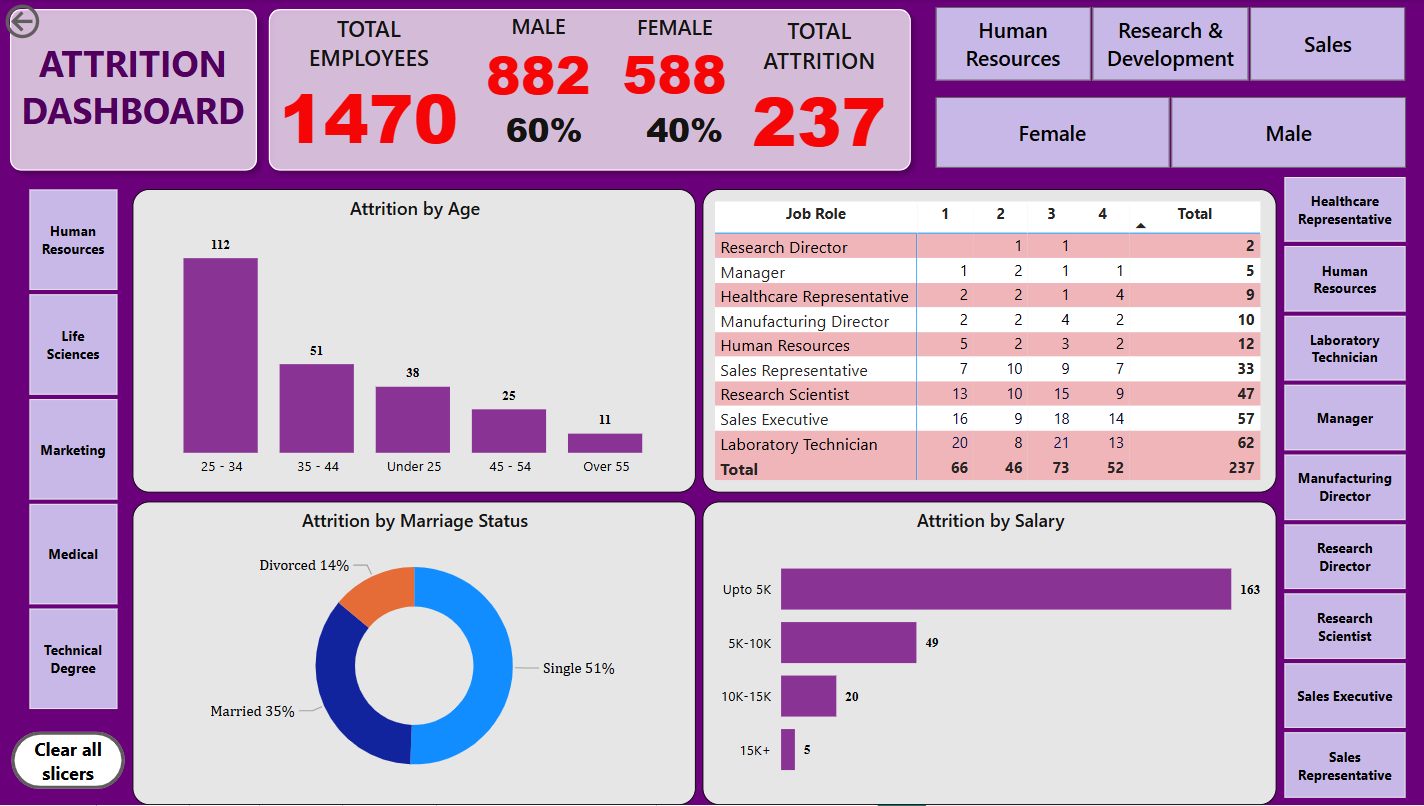

Layout of this report page (visuals, bound fields, positions):
{"tool":"powerbi","page":{"name":"ATTRITION DASHBOARD","canvas":[1280,720],"ordinal":5},"visuals":[{"type":"shape","box":[0,0,238.5,162.3],"z":0},{"type":"shape","box":[231.2,0,591.4,162.3],"z":1000},{"type":"textbox","box":[10,30,217.1,121.4],"z":2000},{"type":"card","title":"TOTAL EMPLOYEES","fields":{"Values":["HR_Measures.Total_Employees"]},"box":[242.2,12.3,174.6,129.1],"z":3000},{"type":"card","title":"MALE","fields":{"Values":["HR_Measures.Male"]},"box":[423,11.1,115.6,83.6],"z":4000},{"type":"card","fields":{"Values":["HR_Measures.%Male"]},"box":[434.9,94.2,103.5,47.7],"z":5000},{"type":"card","title":"FEMALE","fields":{"Values":["HR_Measures.Female"]},"box":[543.5,12.3,118,79.9],"z":6000},{"type":"card","fields":{"Values":["HR_Measures.%Female"]},"box":[561.6,94.2,100,47.7],"z":7000},{"type":"actionButton","box":[10,654.3,101.4,51.4],"z":8000},{"type":"columnChart","title":"Attrition by Age","fields":{"Category":["Employee_Details.CF_age band"],"Y":["HR_Measures.Attrition_Count"]},"box":[118.6,170,502.9,271.4],"z":9000},{"type":"card","title":"TOTAL ATTRITION","fields":{"Values":["HR_Measures.Attrition_Count"]},"box":[652.9,14.8,157.4,129.1],"z":10000},{"type":"slicer","fields":{"Values":["Job_Information.Department"]},"box":[810,0,470,80],"z":11000},{"type":"donutChart","title":"Attrition by Marriage Status","fields":{"Y":["HR_Measures.Attrition_Count"],"Category":["Employee_Details.Marital Status"]},"box":[118.6,448.6,502.9,271.4],"z":12000},{"type":"pivotTable","fields":{"Rows":["Job_Information.Job Role"],"Columns":["Job_Information.Job Satisfaction"],"Values":["HR_Measures.Attrition_Count"]},"box":[627.1,170,512.9,271.4],"z":13000},{"type":"barChart","title":"Attrition by Salary","fields":{"Category":["Compensation_Benefits.Salary Slab"],"Y":["HR_Measures.Attrition_Count"]},"box":[627.1,448.6,512.9,271.4],"z":14000},{"type":"slicer","fields":{"Values":["Employee_Details.Gender"]},"box":[810,80,470,77.1],"z":15000},{"type":"actionButton","box":[0,0,100,40],"z":16000},{"type":"slicer","fields":{"Values":["Employee_Details.Education Field"]},"box":[0,162.9,128.6,478.6],"z":17000},{"type":"slicer","fields":{"Values":["Job_Information.Job Role"]},"box":[1121.4,151.4,158.6,568.6],"z":18000}]}

Visuals, with their boxes in screenshot pixels (x1, y1, x2, y2), scaled from the page's 1280x720 canvas onto the 1424x806 screenshot:
shape: [left=0, top=0, right=265, bottom=182]
shape: [left=257, top=0, right=915, bottom=182]
textbox: [left=11, top=34, right=253, bottom=169]
"TOTAL EMPLOYEES" card: [left=269, top=14, right=464, bottom=158]
"MALE" card: [left=471, top=12, right=599, bottom=106]
card - HR_Measures.%Male: [left=484, top=105, right=599, bottom=159]
"FEMALE" card: [left=605, top=14, right=736, bottom=103]
card - HR_Measures.%Female: [left=625, top=105, right=736, bottom=159]
actionButton: [left=11, top=732, right=124, bottom=790]
"Attrition by Age" columnChart: [left=132, top=190, right=691, bottom=494]
"TOTAL ATTRITION" card: [left=726, top=17, right=901, bottom=161]
slicer - Job_Information.Department: [left=901, top=0, right=1423, bottom=90]
"Attrition by Marriage Status" donutChart: [left=132, top=502, right=691, bottom=805]
pivotTable - Job_Information.Job Role x Job_Information.Job Satisfaction: [left=698, top=190, right=1268, bottom=494]
"Attrition by Salary" barChart: [left=698, top=502, right=1268, bottom=805]
slicer - Employee_Details.Gender: [left=901, top=90, right=1423, bottom=176]
actionButton: [left=0, top=0, right=111, bottom=45]
slicer - Employee_Details.Education Field: [left=0, top=182, right=143, bottom=718]
slicer - Job_Information.Job Role: [left=1248, top=169, right=1423, bottom=805]
